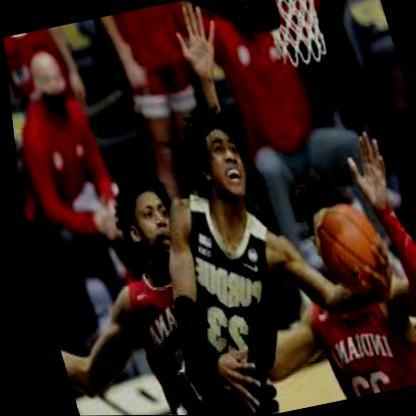basketball: (303, 198, 387, 296)
